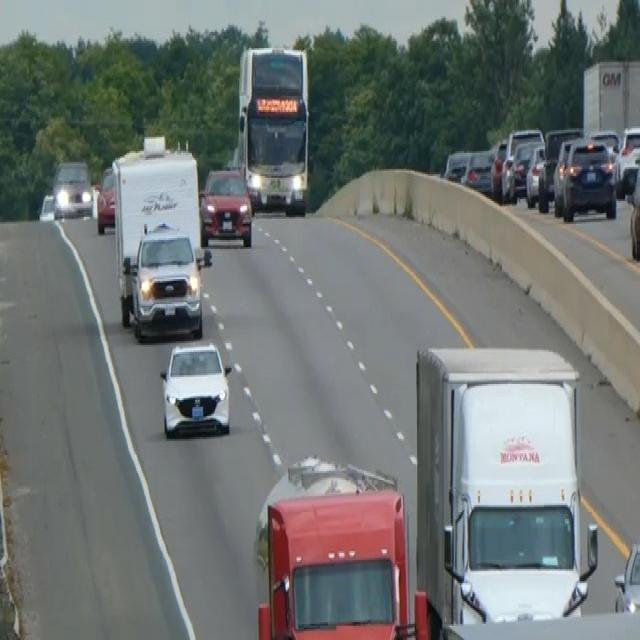bus: (236, 43, 310, 215)
car: (157, 336, 233, 441), (560, 135, 617, 221), (199, 164, 253, 247), (537, 126, 583, 210), (500, 126, 543, 199), (51, 158, 92, 219), (613, 539, 639, 613), (615, 122, 639, 194), (461, 146, 496, 194), (524, 140, 546, 207), (95, 163, 116, 233), (489, 137, 508, 199), (589, 126, 620, 164), (442, 148, 469, 183), (38, 192, 56, 222)
jeep: (123, 219, 211, 341)
lorry: (253, 454, 412, 638)
